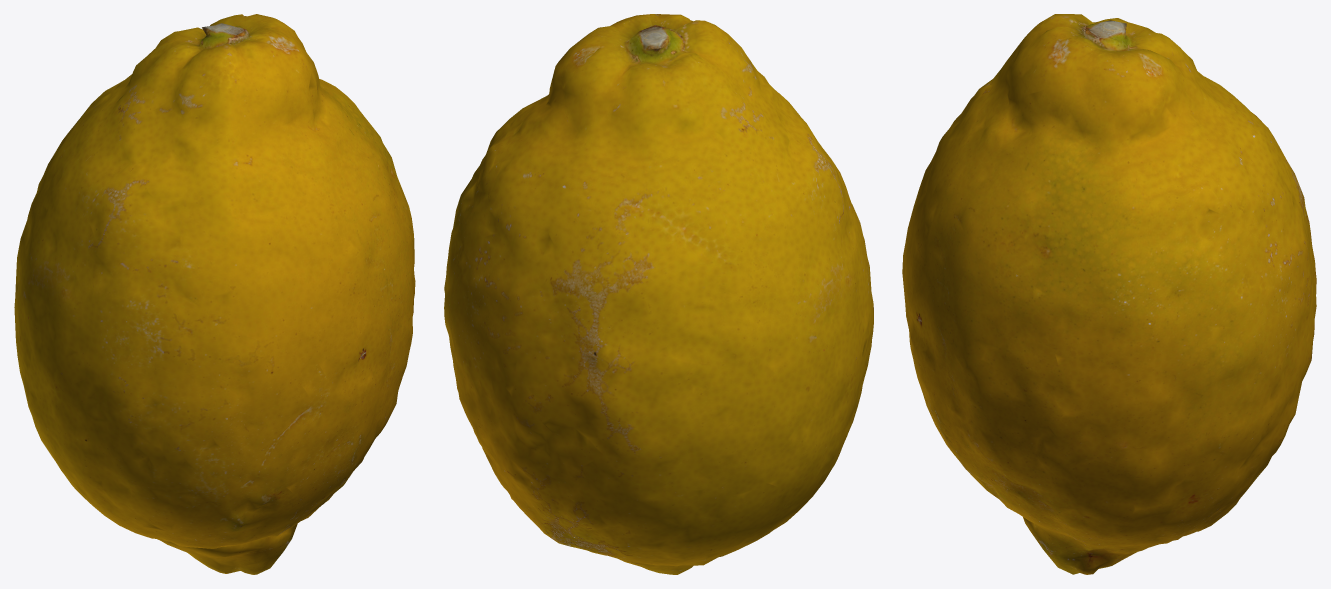
The model's file is lemon.glb.
3 views of the same model, side by side, from view 1: azimuth 30°, elevation 25°; view 2: azimuth 150°, elevation 25°; view 3: azimuth 270°, elevation 25° (orthographic).
Parts seen in each view (by area): view 1: Object_2; view 2: Object_2; view 3: Object_2.
Part boxes in pixels (x1,y1,x2,y2): Object_2: (14, 14, 415, 574); Object_2: (444, 14, 873, 574); Object_2: (902, 14, 1316, 574).
Bounding box in the file's own units: 22.5 × 32.45 × 22.51.
1 material, 1 textured.
